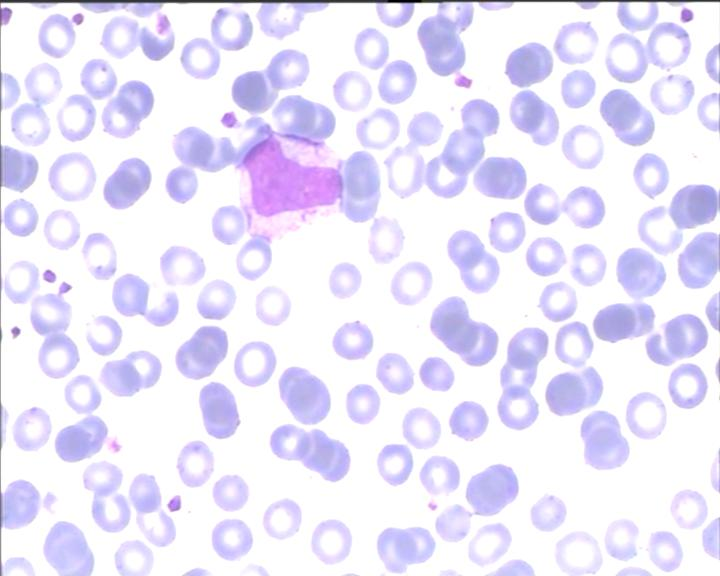mono: (232, 128, 347, 245)
